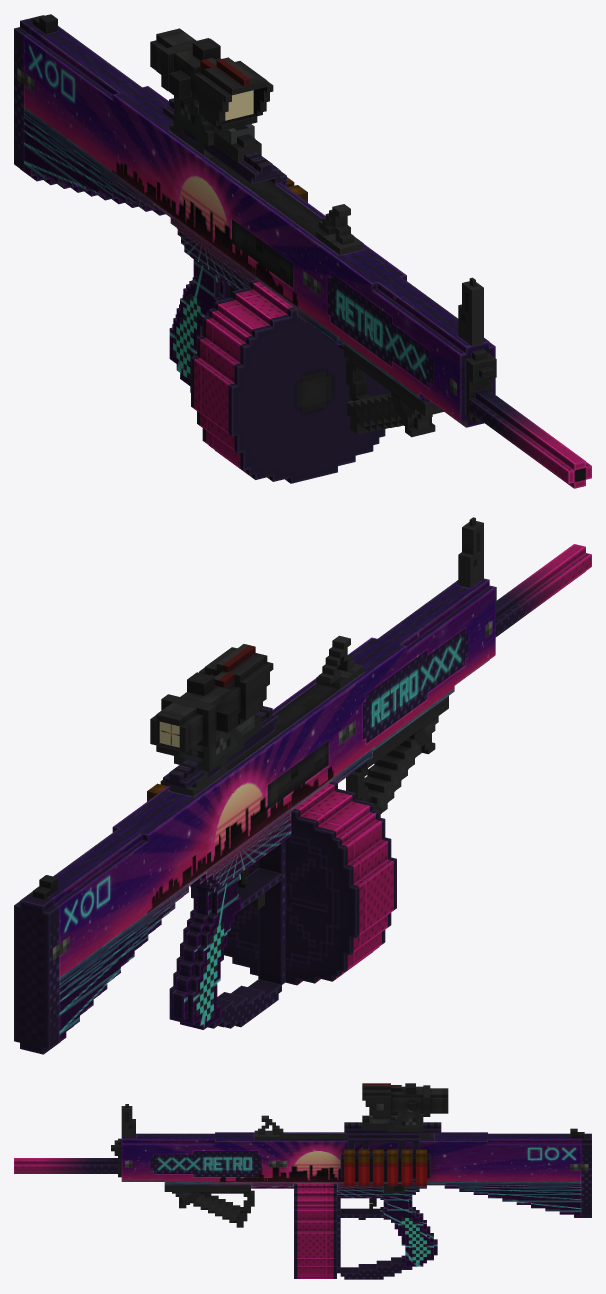
Rendered from RD_AA12_RETRO.glb.
3 views of the same model, one above another, from view 1: azimuth 30°, elevation 25°; view 2: azimuth 150°, elevation 25°; view 3: azimuth 270°, elevation 25° (orthographic). The views are drawn at different scales.
Visible parts, largest first — view 1: AA12, AA12_CLIP, SCOPE_ACOG, GRIP2, AA12_PLANK (×2), AA12_SIIGHTS, SCOPE_EOTECH, AA12_BOLT; view 2: AA12, AA12_CLIP, SCOPE_ACOG, GRIP2, AA12_SIIGHTS, AA12_PLANK, SCOPE_EOTECH, AA12_BOLT; view 3: AA12, AA12_CLIP, SCOPE_ACOG, GRIP2, AA12_PLANK, SCOPE_EOTECH, AA12_SIIGHTS, AA12_BOLT.
Part boxes in pixels (x1,y1,x2,y2): AA12: (14,14,591,488); AA12_CLIP: (191,279,391,483); SCOPE_ACOG: (150,28,273,161); GRIP2: (343,344,443,437); AA12_PLANK (×2): (163,98,286,187); AA12_SIIGHTS: (169,121,483,345); SCOPE_EOTECH: (174,90,254,145); AA12_BOLT: (316,204,363,255); AA12: (14,544,591,1054); AA12_CLIP: (191,781,396,985); SCOPE_ACOG: (150,644,273,757); GRIP2: (346,696,448,817); AA12_SIIGHTS: (169,517,483,796); AA12_PLANK: (163,706,278,789); SCOPE_EOTECH: (174,714,254,771); AA12_BOLT: (316,635,363,689); AA12: (14,1128,591,1279); AA12_CLIP: (294,1183,336,1278); SCOPE_ACOG: (362,1083,448,1129); GRIP2: (164,1185,254,1227); AA12_PLANK: (344,1122,441,1155); SCOPE_EOTECH: (369,1109,423,1131); AA12_SIIGHTS: (121,1104,433,1139); AA12_BOLT: (254,1115,283,1139).
Bounding box in the file's own units: 0.2756 × 0.5807 × 1.58.
Materials: 6 (6 with a texture image).
